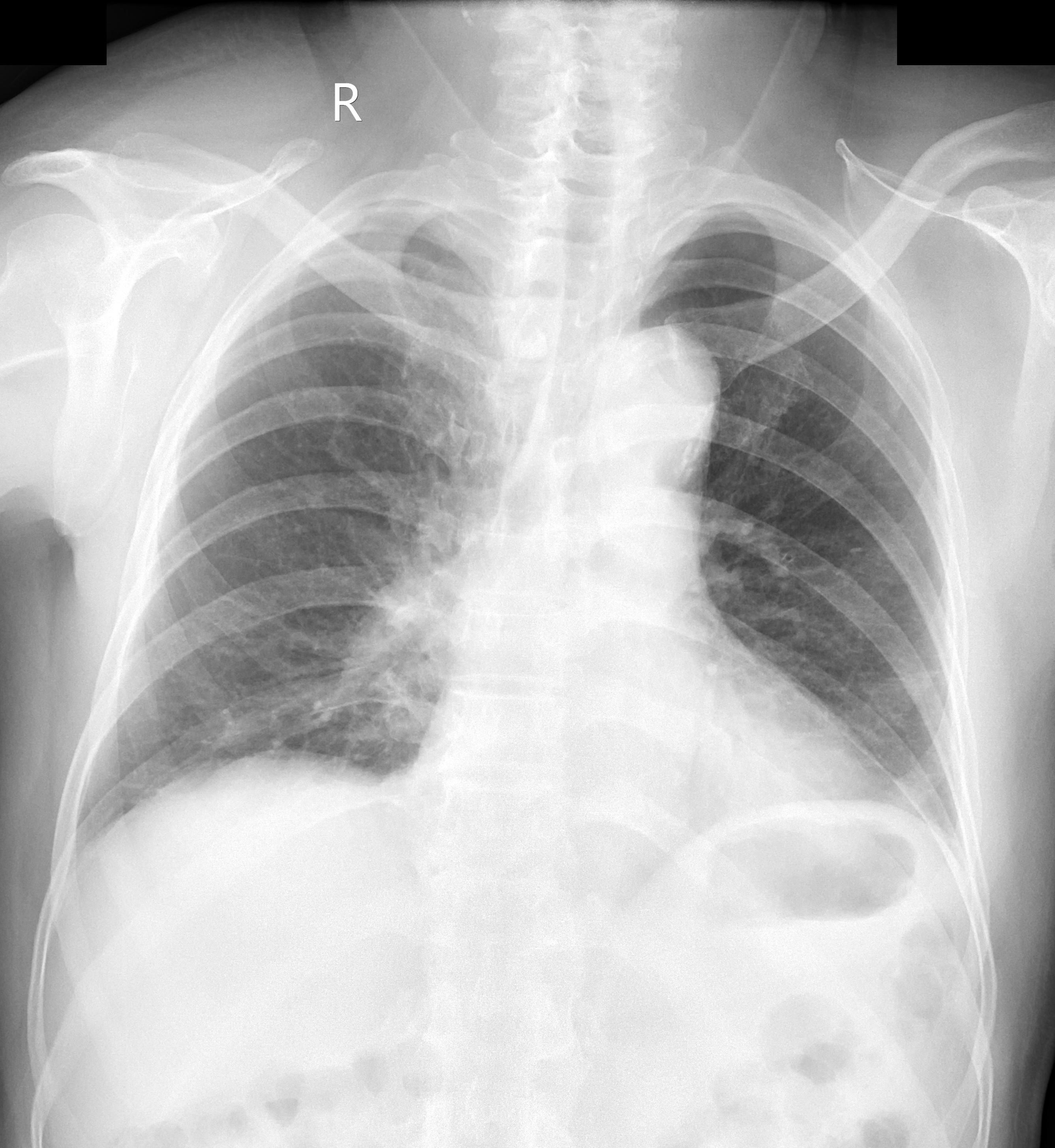Aortic enlargement: (588, 329, 721, 487)
Cardiomegaly: (398, 698, 881, 837)
Pleural thickening: (645, 199, 793, 271), (329, 194, 454, 230)
